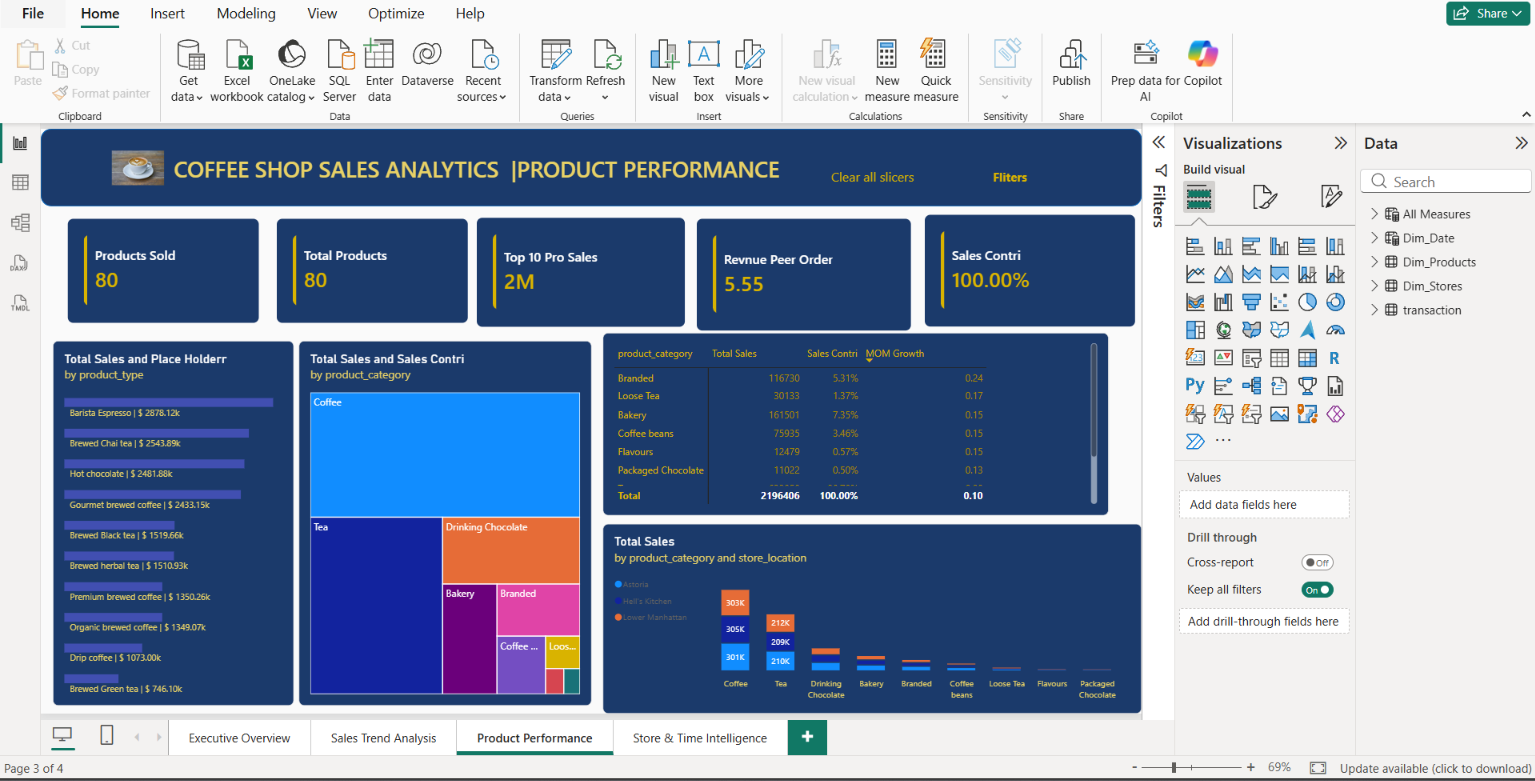

The page's visual inventory and layout, read from the dashboard file:
{"tool":"powerbi","page":{"name":"Product Performance","canvas":[1600,850],"ordinal":2},"visuals":[{"type":"shape","box":[0,0,1600.3,112.5],"z":0},{"type":"textbox","box":[193.3,36.3,963.7,48],"z":1000},{"type":"cardVisual","fields":{"Data":["All Measures.Revnue Peer Order"]},"box":[953.5,130.8,311,162.8],"z":8000},{"type":"cardVisual","fields":{"Data":["All Measures.Total Products"]},"box":[343,130.8,277.6,151.2],"z":9000},{"type":"cardVisual","fields":{"Data":["All Measures.Top 10 Pro Sales"]},"box":[633.7,129.4,302.3,158.4],"z":10000},{"type":"cardVisual","fields":{"Data":["All Measures.Sales Contri"]},"box":[1284.9,125,305.2,162.8],"z":11000},{"type":"clusteredBarChart","fields":{"Category":["Dim_Products.product_type"],"Y":["All Measures.Total Sales","All Measures.Place Holderr"]},"box":[17.4,308.1,350.3,530.5],"z":13000},{"type":"treemap","fields":{"Group":["Dim_Products.product_category","Dim_Products.product_type"],"Values":["All Measures.Total Sales"]},"box":[375,308.1,425.9,530.5],"z":14000},{"type":"columnChart","fields":{"Category":["Dim_Products.product_category"],"Series":["Dim_Stores.store_location"],"Y":["All Measures.Total Sales"]},"box":[816.9,574.1,783.4,276.2],"z":15000},{"type":"pivotTable","fields":{"Rows":["Dim_Products.product_category"],"Values":["All Measures.Total Sales","All Measures.Sales Contri","All Measures.MOM Growth"]},"box":[816.2,296.3,735.5,266],"z":16000},{"type":"image","box":[103.7,27.7,75.9,58.4],"z":16001},{"type":"actionButton","box":[1344.8,40.9,128.5,59.9],"z":16002},{"type":"actionButton","box":[1109.3,45.8,200,50],"z":16008},{"type":"cardVisual","fields":{"Data":["All Measures.Products Sold"]},"box":[39.2,130.8,277.6,151.2],"z":16009}]}

Visuals, with their boxes on the page's 1600x850 design canvas (x1, y1, x2, y2). These are canvas units, not pixel positions in the 1535x781 screenshot, which may show the page scaled, cropped or inside an application window:
shape: l=0, t=0, r=1600, b=112
textbox: l=193, t=36, r=1157, b=84
cardVisual - All Measures.Revnue Peer Order: l=954, t=131, r=1264, b=294
cardVisual - All Measures.Total Products: l=343, t=131, r=621, b=282
cardVisual - All Measures.Top 10 Pro Sales: l=634, t=129, r=936, b=288
cardVisual - All Measures.Sales Contri: l=1285, t=125, r=1590, b=288
clusteredBarChart - Dim_Products.product_type x All Measures.Total Sales: l=17, t=308, r=368, b=839
treemap - Dim_Products.product_category x Dim_Products.product_type: l=375, t=308, r=801, b=839
columnChart - Dim_Products.product_category x Dim_Stores.store_location: l=817, t=574, r=1600, b=850
pivotTable - Dim_Products.product_category x All Measures.Total Sales: l=816, t=296, r=1552, b=562
image: l=104, t=28, r=180, b=86
actionButton: l=1345, t=41, r=1473, b=101
actionButton: l=1109, t=46, r=1309, b=96
cardVisual - All Measures.Products Sold: l=39, t=131, r=317, b=282
